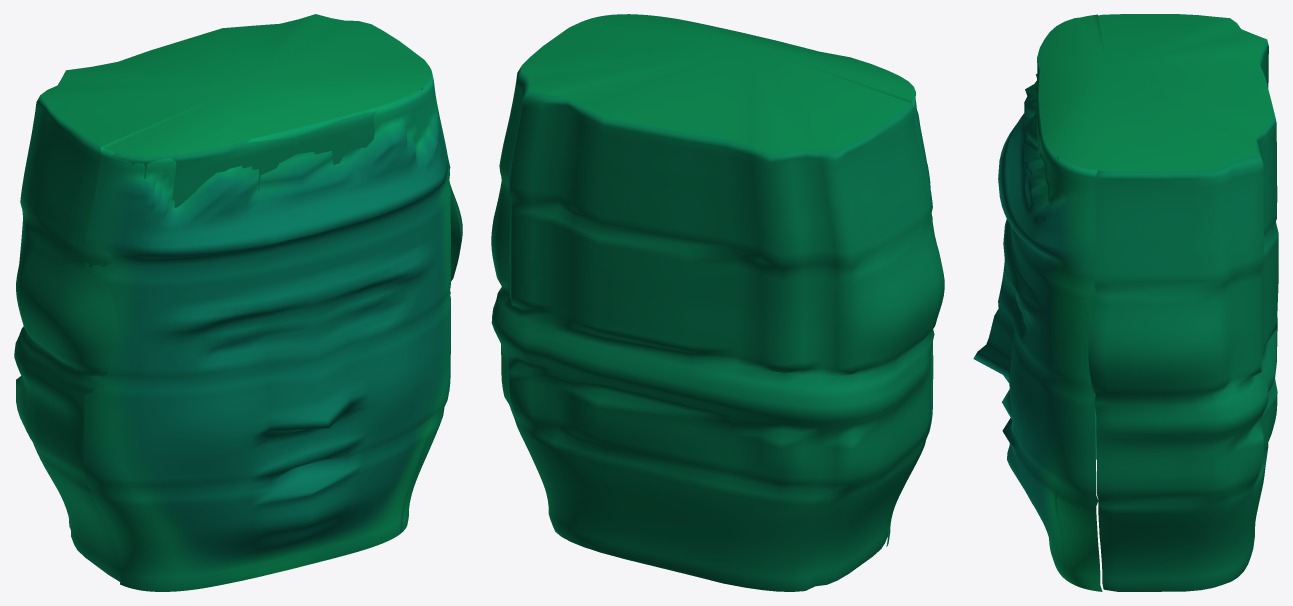
The model's file is watcher_head.glb.
The picture shows the model from 3 angles, left to right: view 1: azimuth 30°, elevation 25°; view 2: azimuth 150°, elevation 25°; view 3: azimuth 270°, elevation 25°; orthographic projection. The views are drawn at different scales.
Parts seen in each view (by area): view 1: watcher_head; view 2: watcher_head; view 3: watcher_head.
Boxes of the visible parts, x1,y1,x2,y2 form: watcher_head: (14, 14, 462, 591); watcher_head: (491, 14, 944, 591); watcher_head: (973, 14, 1278, 591).
Size of what is drawn, in the model's own units: 2.29 by 2.52 by 1.54.
